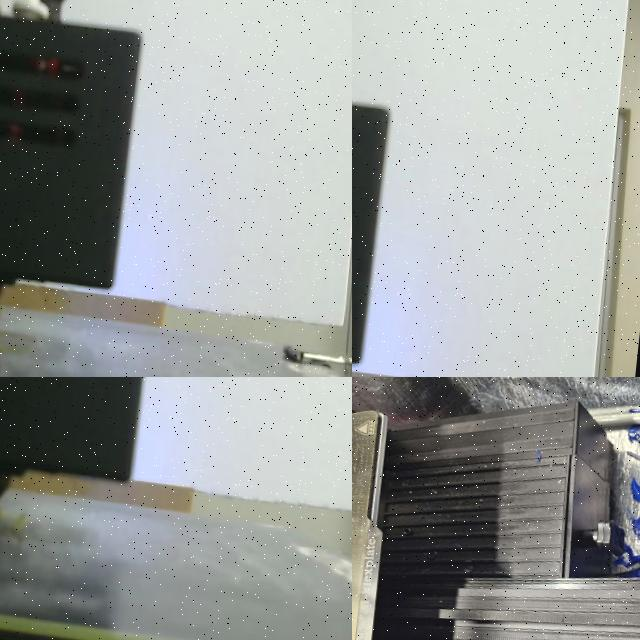spaghetti: (592, 419, 640, 594), (1, 491, 30, 536)
